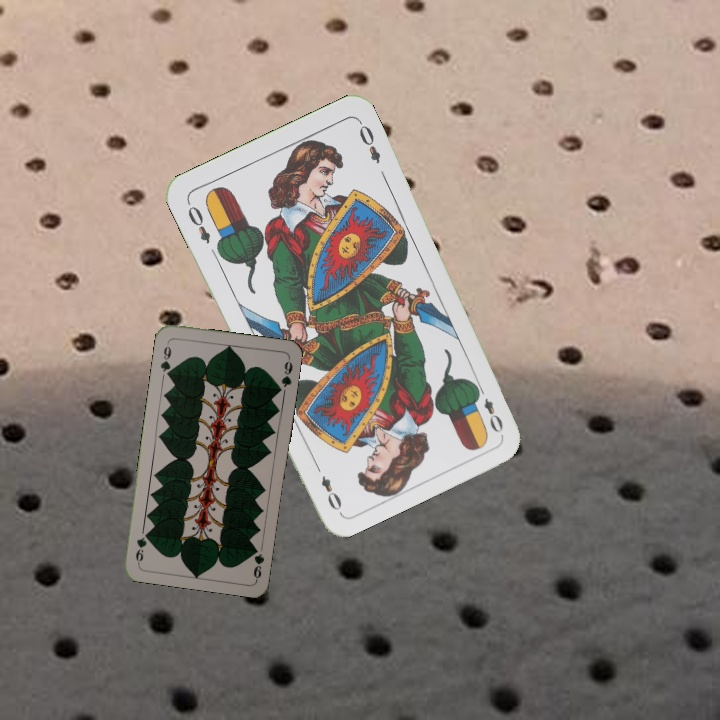EO: (472, 381, 506, 436), (182, 197, 214, 246)
G9: (156, 338, 174, 379), (249, 543, 267, 582)
